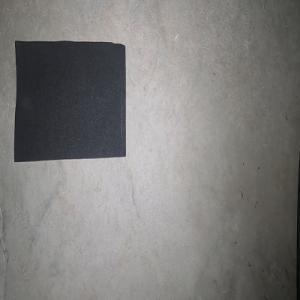PaintChip: (14, 40, 125, 162)
